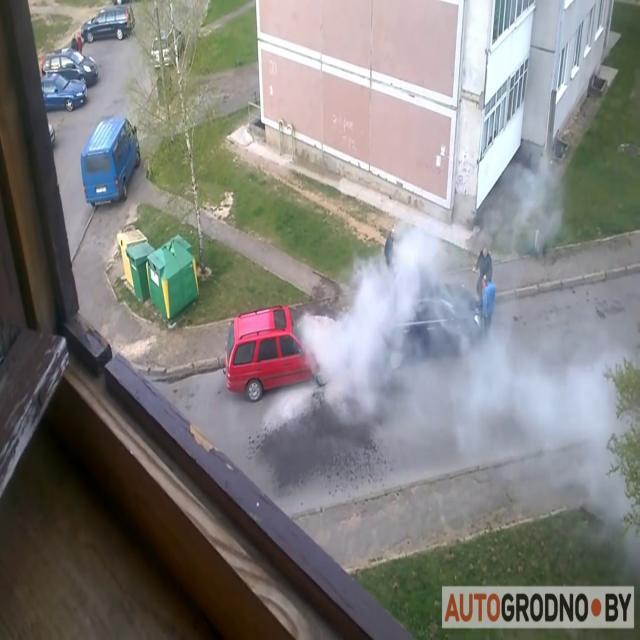Smoke: (308, 203, 484, 452), (470, 301, 640, 505)
